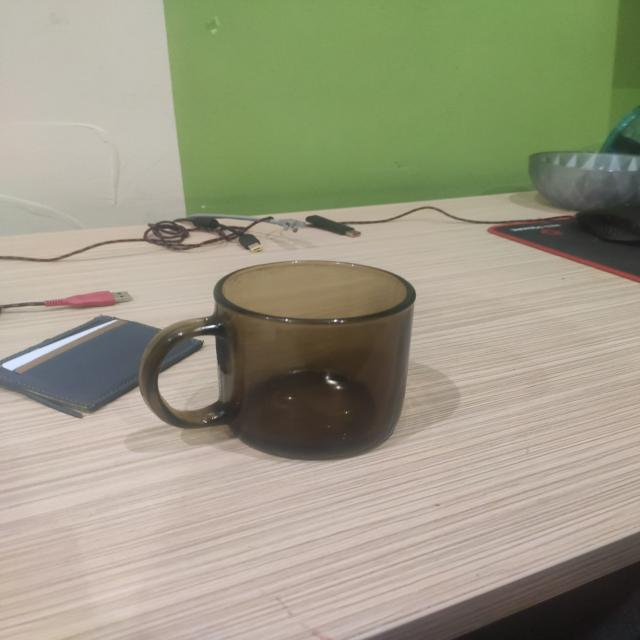cups: (138, 261, 416, 460)
